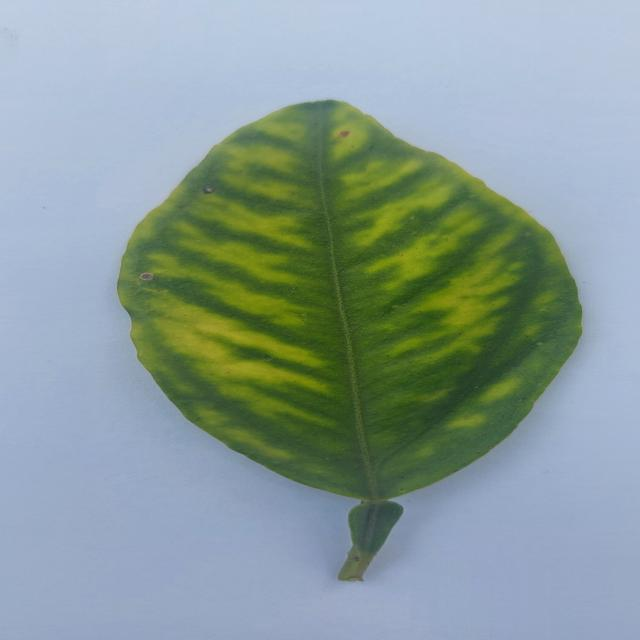greening: (119, 101, 580, 503)
